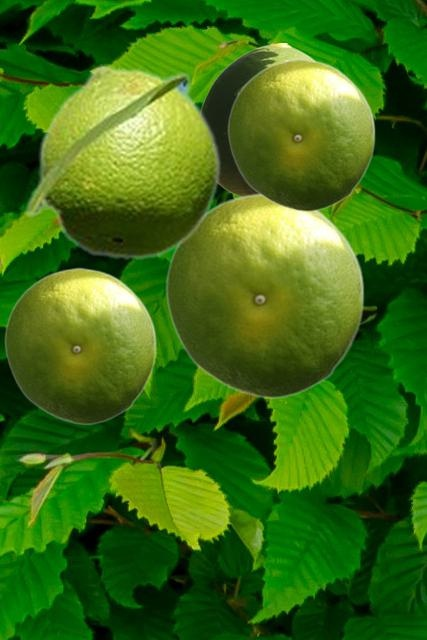dalandan: (165, 192, 363, 398), (23, 64, 221, 260), (4, 267, 155, 424), (227, 58, 374, 211), (201, 43, 314, 195)
